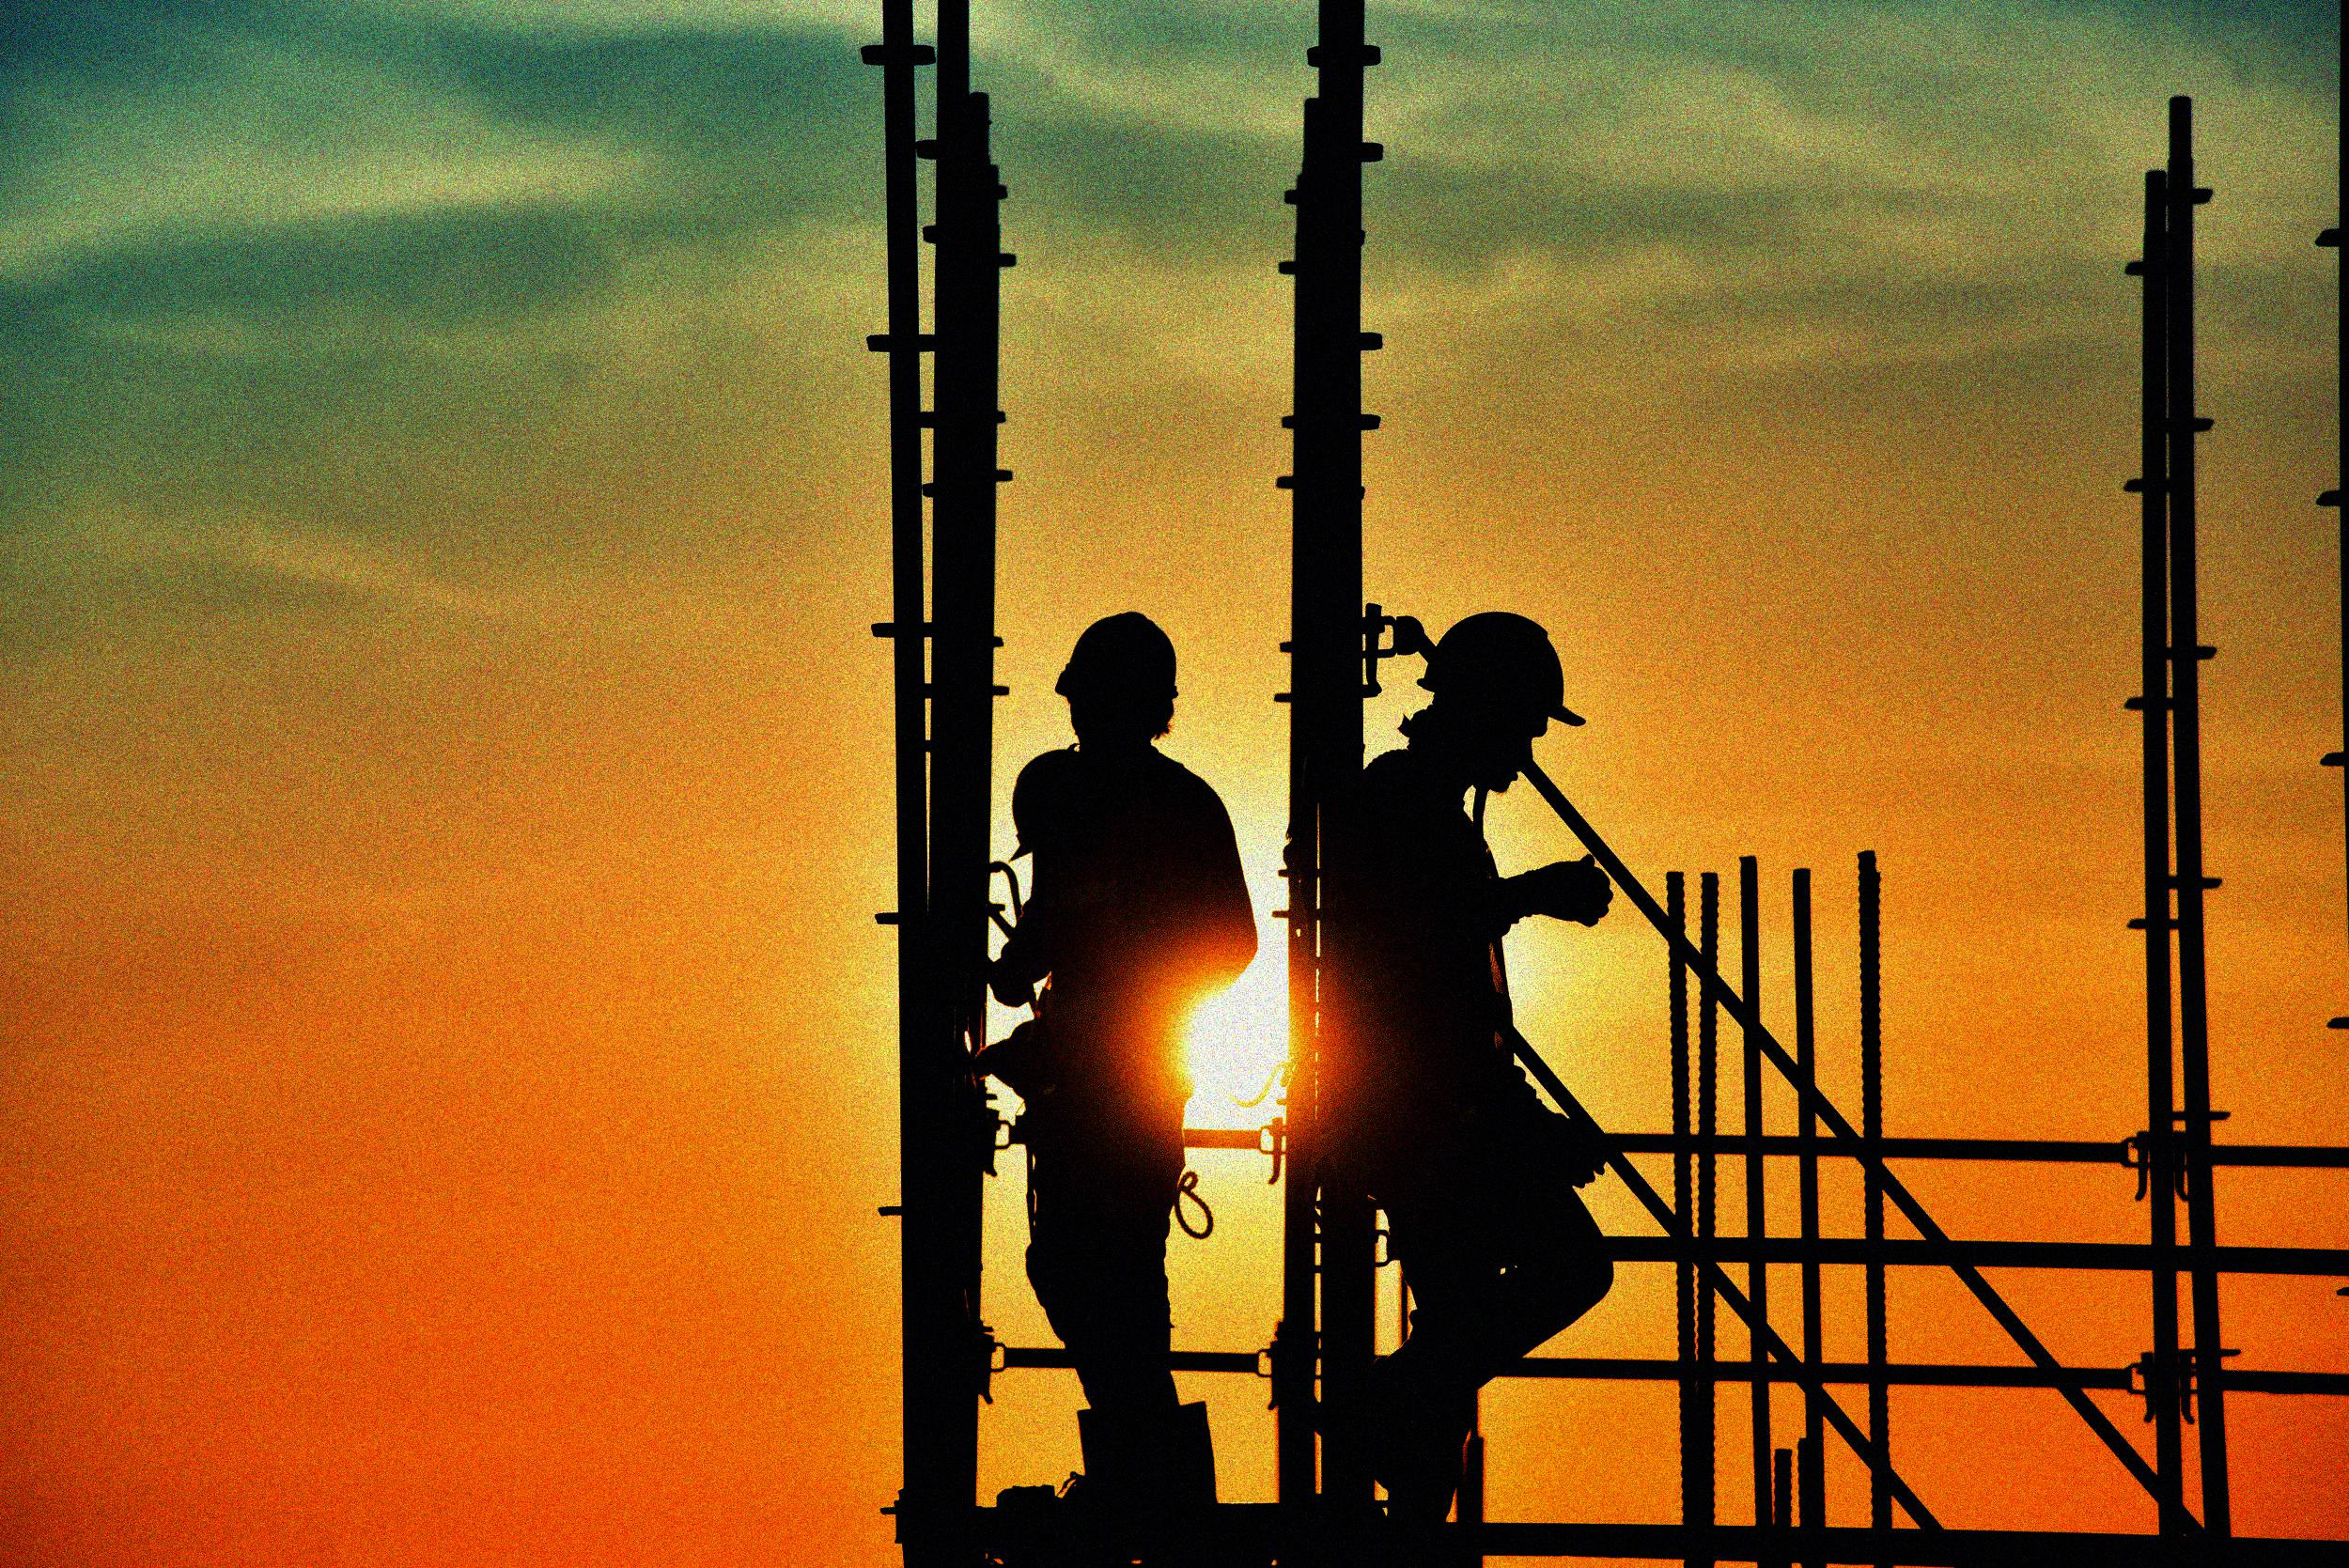helmet: (1388, 607, 1591, 801), (1048, 602, 1192, 766)
